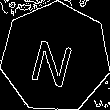N_N: (30, 28, 81, 87)
